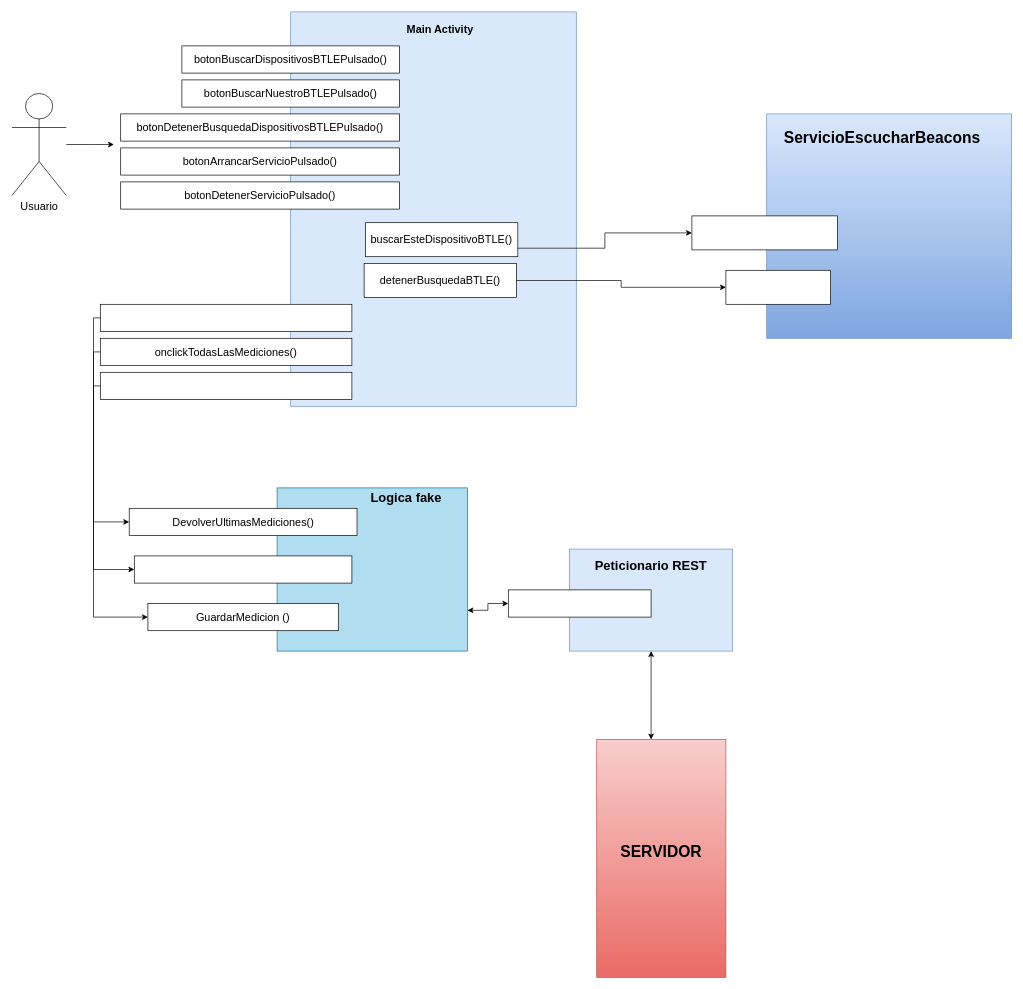
The diagram is 1023 pixels wide and 989 high, and some of its shapes have lost their labels. The shapes that lost their labels are listed below. From the top down, each one's box as (x1, y1, x2, y2) in pixels, then its label:
(691, 215, 837, 250): servicioEscucharBeacons()
(725, 270, 831, 304): parar()
(100, 304, 352, 332): onclickDevolverUltimasMediciones()
(100, 372, 352, 400): onclickGuardarMedicion ()
(134, 555, 352, 583): TodasLasMediciones()
(508, 589, 651, 617): hacerPeticionRest()
